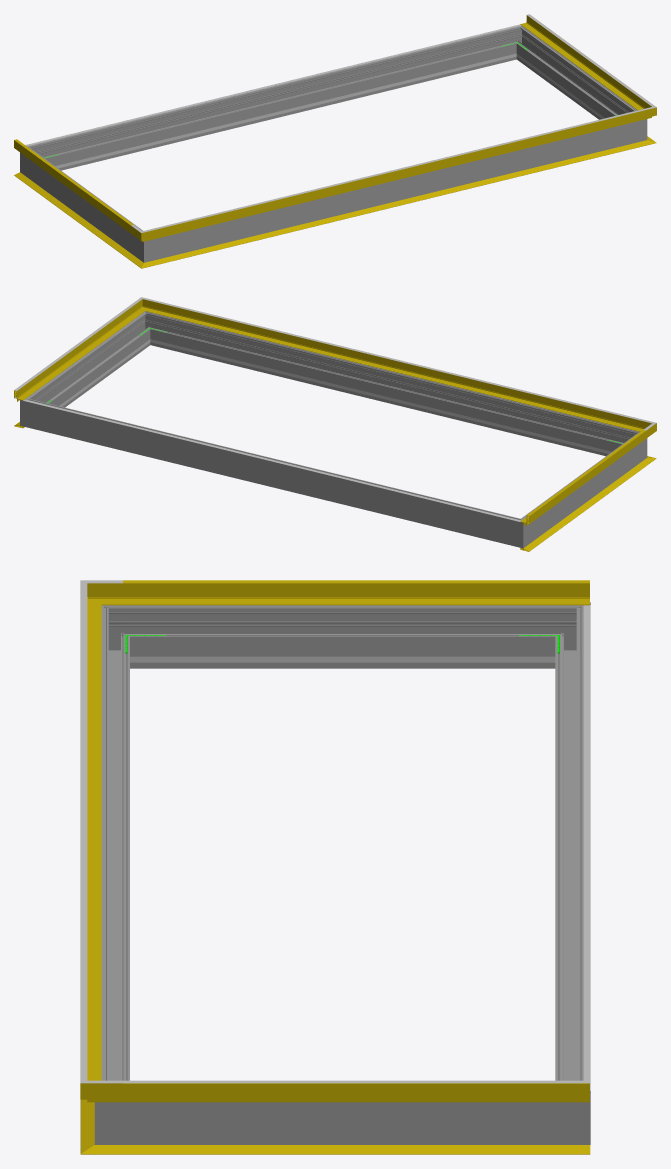
The picture shows the model from 3 angles, top to bottom: view 1: azimuth 30°, elevation 25°; view 2: azimuth 150°, elevation 25°; view 3: azimuth 270°, elevation 25°; orthographic projection. The views are drawn at different scales.
Parts seen in each view (by area): view 1: 3DGeom-278, 3DGeom-300, 3DGeom-56, 3DGeom-299, 3DGeom-28, 3DGeom-270, 3DGeom-58, 3DGeom-246, 3DGeom-222, 3DGeom-66, 3DGeom-50, 3DGeom-38 (+5 smaller); view 2: 3DGeom-300, 3DGeom-278, 3DGeom-56, 3DGeom-299, 3DGeom-270, 3DGeom-58, 3DGeom-241, 3DGeom-222, 3DGeom-66, 3DGeom-50, 3DGeom-38, 3DGeom-280 (+4 smaller); view 3: 3DGeom-270, 3DGeom-299, 3DGeom-278, 3DGeom-300, 3DGeom-50, 3DGeom-58, 3DGeom-56, 3DGeom-30, 3DGeom-222, 3DGeom-66, 3DGeom-234, 3DGeom-286 (+7 smaller).
Part boxes in pixels (x1,y1,x2,y2): 3DGeom-278: (40, 29, 513, 170); 3DGeom-300: (162, 123, 628, 258); 3DGeom-56: (158, 112, 638, 238); 3DGeom-299: (518, 32, 632, 119); 3DGeom-28: (157, 143, 638, 264); 3DGeom-270: (30, 152, 138, 254); 3DGeom-58: (520, 15, 643, 109); 3DGeom-246: (62, 58, 498, 167); 3DGeom-222: (25, 24, 521, 146); 3DGeom-66: (158, 110, 637, 228); 3DGeom-50: (14, 140, 130, 232); 3DGeom-38: (14, 172, 136, 260); 3DGeom-300: (153, 315, 626, 456); 3DGeom-278: (38, 402, 507, 543); 3DGeom-56: (154, 303, 636, 429); 3DGeom-299: (33, 318, 148, 407); 3DGeom-270: (528, 438, 636, 540); 3DGeom-58: (14, 306, 139, 401); 3DGeom-241: (168, 343, 605, 452); 3DGeom-222: (23, 399, 520, 521); 3DGeom-66: (158, 301, 637, 419); 3DGeom-50: (520, 431, 646, 525); 3DGeom-38: (520, 463, 645, 551); 3DGeom-280: (505, 513, 533, 548); 3DGeom-270: (137, 605, 547, 668); 3DGeom-299: (137, 1102, 547, 1144); 3DGeom-278: (555, 620, 583, 1080); 3DGeom-300: (101, 620, 129, 1080); 3DGeom-50: (123, 583, 589, 605); 3DGeom-58: (123, 1083, 589, 1102); 3DGeom-56: (87, 612, 101, 1080); 3DGeom-30: (123, 1145, 590, 1154); 3DGeom-222: (583, 605, 590, 1090); 3DGeom-66: (80, 598, 87, 1065); 3DGeom-234: (171, 656, 514, 662); 3DGeom-286: (548, 1075, 590, 1144).
Bounding box in the file's own units: 4.27 × 0.2831 × 1.83.
